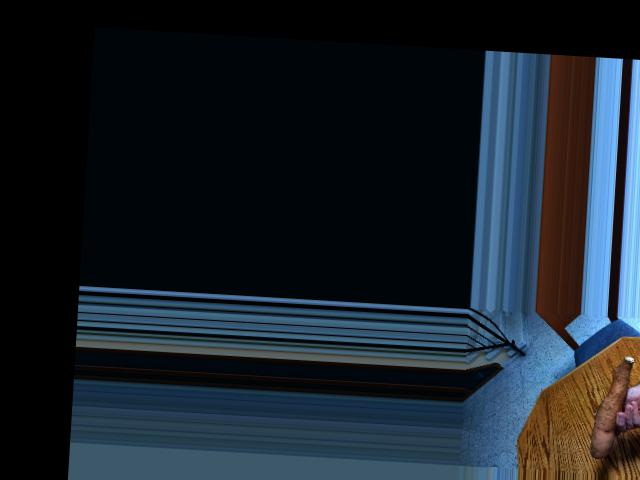sweet_potato: (586, 353, 639, 457)
